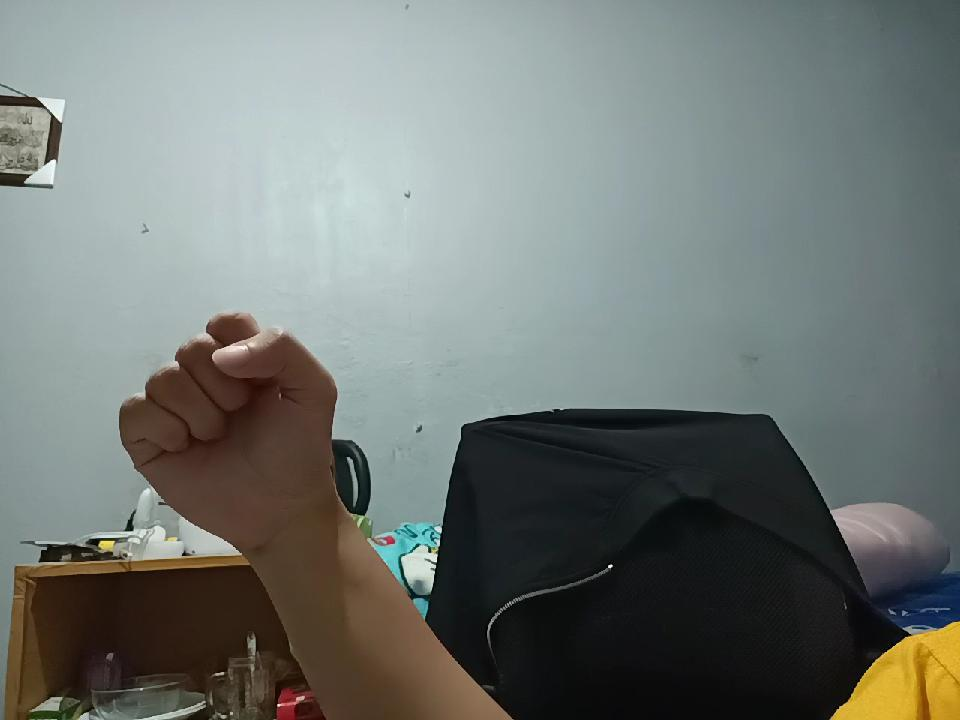rock: (125, 292, 342, 550)
